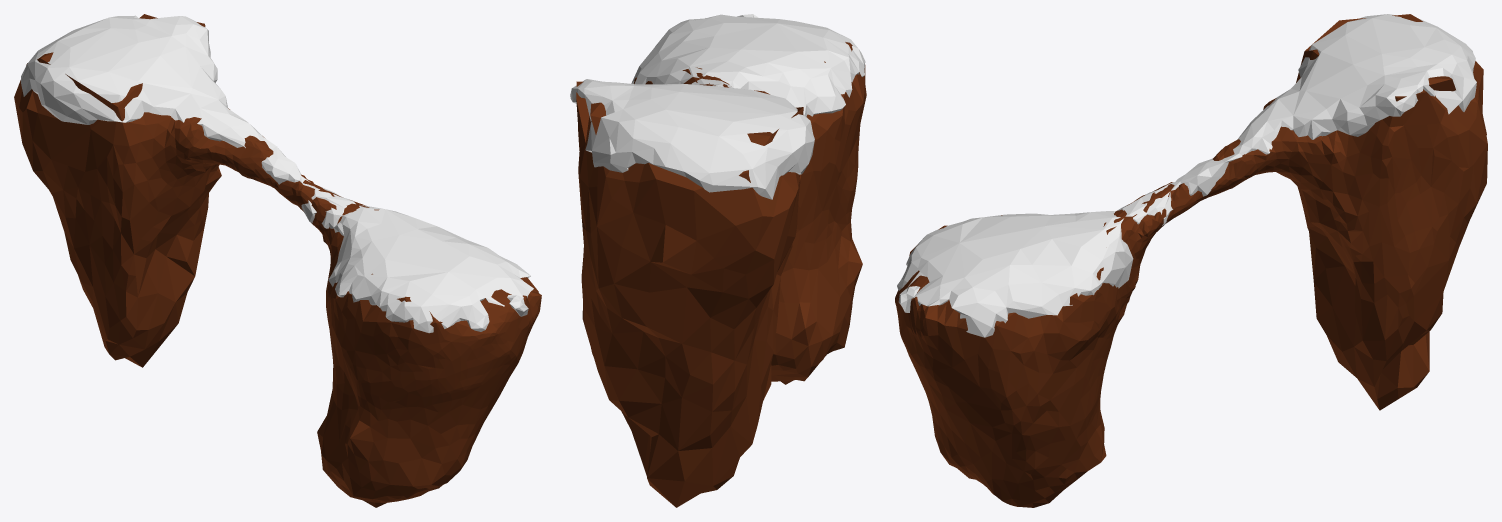
File: Tre_Isola2.fbx
3 renders of one model, left to right at view 1: azimuth 30°, elevation 25°; view 2: azimuth 150°, elevation 25°; view 3: azimuth 270°, elevation 25°, orthographic. The views are drawn at different scales.
Visible parts, largest first — view 1: Plane.035, Plane.036; view 2: Plane.035, Plane.036; view 3: Plane.035, Plane.036.
Part boxes in pixels (box(x1,y1,x2,y2)): Plane.035: box(14, 14, 541, 507); Plane.036: box(21, 15, 533, 333); Plane.035: box(576, 42, 866, 507); Plane.036: box(570, 14, 865, 199); Plane.035: box(895, 14, 1487, 507); Plane.036: box(897, 14, 1476, 337).
Bounding box in the file's own units: 97.98 × 113 × 151.
